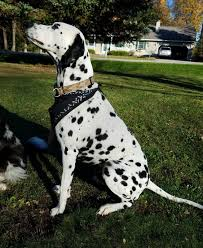dog_sitting: (22, 20, 153, 218)
